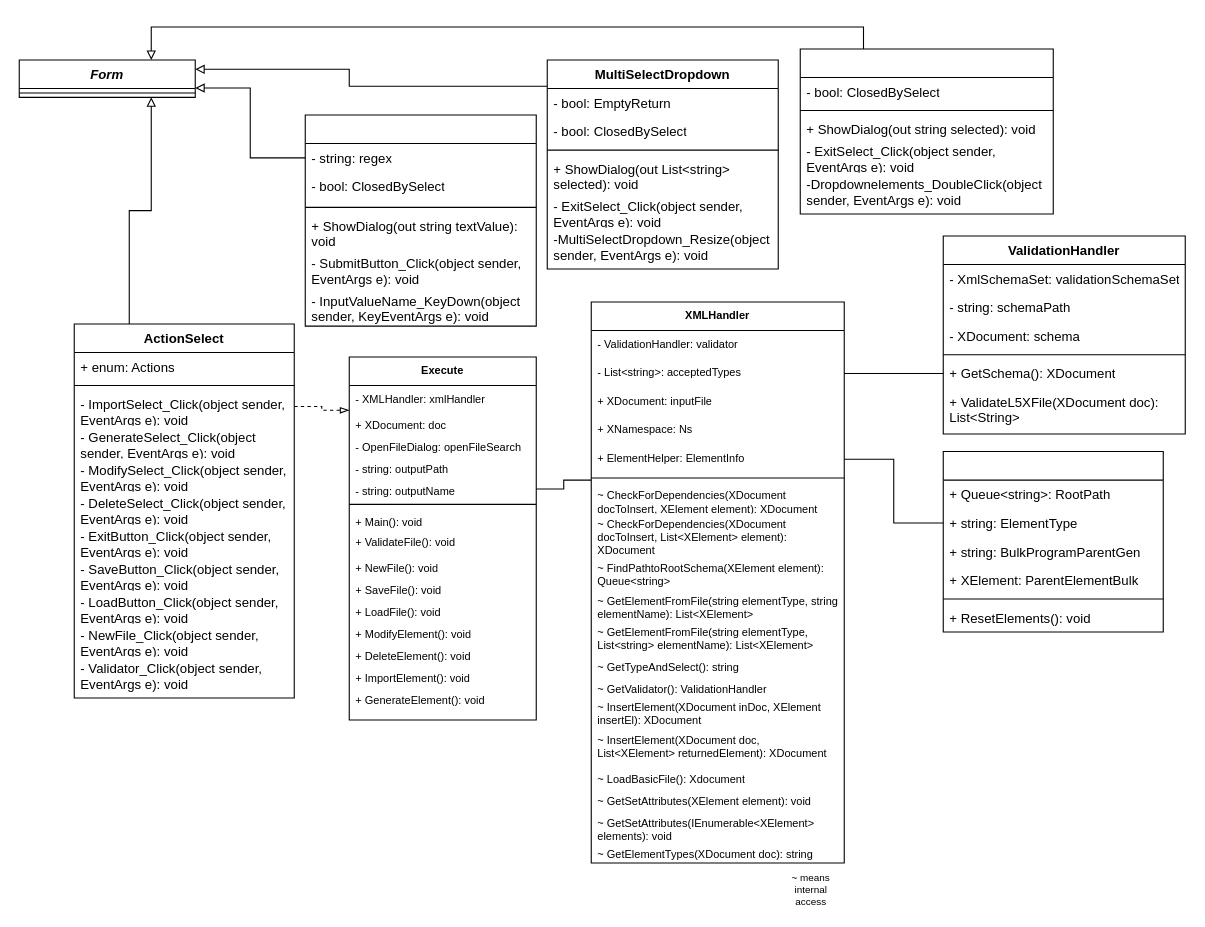
The diagram is 1205 pixels wide and 927 high, and some of its shapes have lost their labels. The box of each missing label's shape, as (x1, y1, x2, y2) in pixels:
DropdownGui: (799, 48, 1053, 214)
ElementHelper: (942, 450, 1163, 632)
TextInput: (304, 114, 536, 326)
